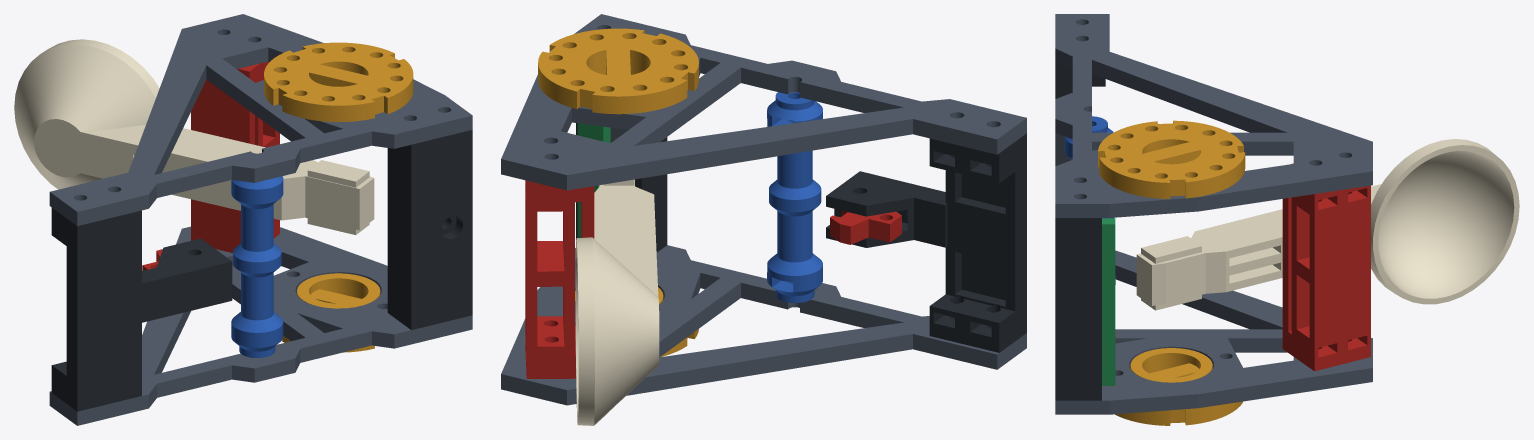
Rendered from assembly.glb.
The picture shows the model from 3 angles, left to right: view 1: azimuth 30°, elevation 25°; view 2: azimuth 150°, elevation 25°; view 3: azimuth 270°, elevation 25°; orthographic projection. The views are drawn at different scales.
Parts seen in each view (by area): view 1: Left_Side_Frame, Throwing_Arm, Rear_Crossbeam, Right_Side_Frame, Front_Crossbeam, Left_Modiolus_Washer, Windlass_Drum, Capitulum_Stop_Beam, Right_Modiolus_Washer; view 2: Left_Side_Frame, Right_Side_Frame, Rear_Crossbeam, Throwing_Arm, Left_Modiolus_Washer, Capitulum_Stop_Beam, Windlass_Drum, Trigger_Sear_Hook, Front_Crossbeam, Torsion_Winding_Wrench; view 3: Throwing_Arm, Left_Side_Frame, Right_Side_Frame, Capitulum_Stop_Beam, Left_Modiolus_Washer, Front_Crossbeam, Right_Modiolus_Washer, Torsion_Winding_Wrench, Rear_Crossbeam, Windlass_Drum.
Part boxes in pixels (bbox=[...]): Left_Side_Frame: bbox=[49, 14, 472, 225]; Throwing_Arm: bbox=[14, 39, 374, 234]; Rear_Crossbeam: bbox=[51, 208, 232, 411]; Right_Side_Frame: bbox=[49, 226, 472, 425]; Front_Crossbeam: bbox=[387, 130, 472, 329]; Left_Modiolus_Washer: bbox=[264, 42, 413, 121]; Windlass_Drum: bbox=[231, 176, 283, 357]; Capitulum_Stop_Beam: bbox=[191, 61, 279, 252]; Right_Modiolus_Washer: bbox=[282, 273, 380, 352]; Left_Side_Frame: bbox=[501, 14, 1026, 190]; Right_Side_Frame: bbox=[501, 245, 1026, 405]; Rear_Crossbeam: bbox=[826, 133, 1026, 352]; Throwing_Arm: bbox=[575, 179, 659, 425]; Left_Modiolus_Washer: bbox=[538, 28, 698, 114]; Capitulum_Stop_Beam: bbox=[525, 180, 594, 378]; Windlass_Drum: bbox=[767, 92, 822, 302]; Trigger_Sear_Hook: bbox=[830, 210, 901, 244]; Front_Crossbeam: bbox=[576, 123, 667, 252]; Torsion_Winding_Wrench: bbox=[577, 123, 610, 237]; Throwing_Arm: bbox=[1136, 139, 1519, 310]; Left_Side_Frame: bbox=[1055, 14, 1372, 217]; Right_Side_Frame: bbox=[1055, 250, 1372, 414]; Capitulum_Stop_Beam: bbox=[1282, 163, 1370, 371]; Left_Modiolus_Washer: bbox=[1098, 120, 1245, 198]; Front_Crossbeam: bbox=[1055, 218, 1101, 400]; Right_Modiolus_Washer: bbox=[1115, 348, 1242, 425]; Torsion_Winding_Wrench: bbox=[1102, 218, 1115, 385]; Rear_Crossbeam: bbox=[1055, 62, 1105, 165]; Windlass_Drum: bbox=[1064, 116, 1115, 284].
Bounding box in the file's own units: 0.116 × 0.0692 × 0.1198.
